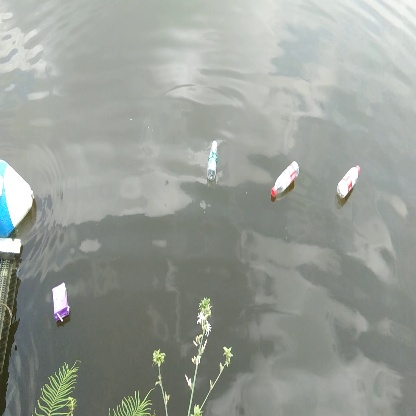bottle: (268, 159, 302, 203), (335, 164, 363, 203), (205, 138, 222, 182)
milk-box: (48, 279, 71, 324)
